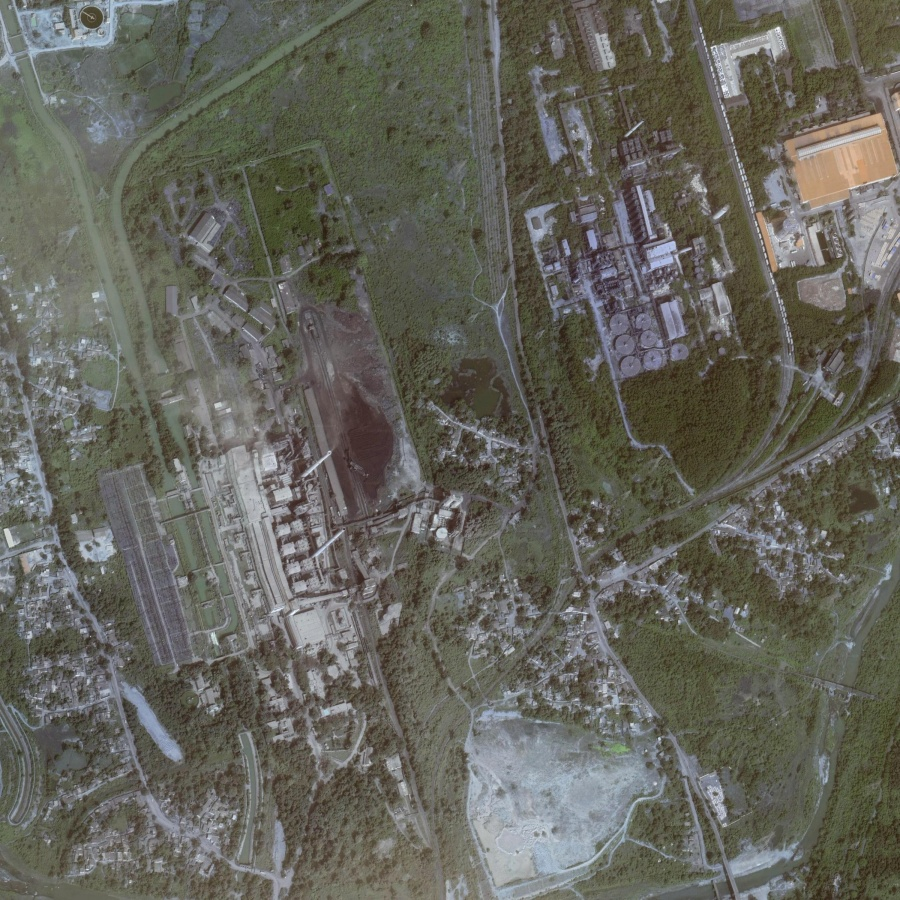PowerPlant: (207, 295, 404, 592)
